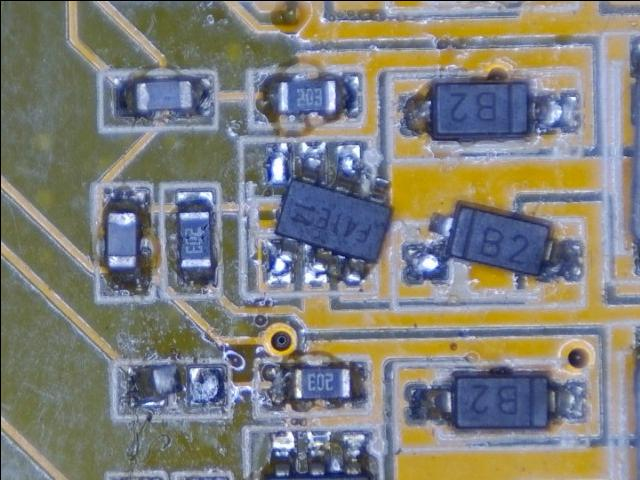Incorrect_installation: (265, 141, 393, 287), (404, 200, 583, 283), (129, 364, 226, 407)
